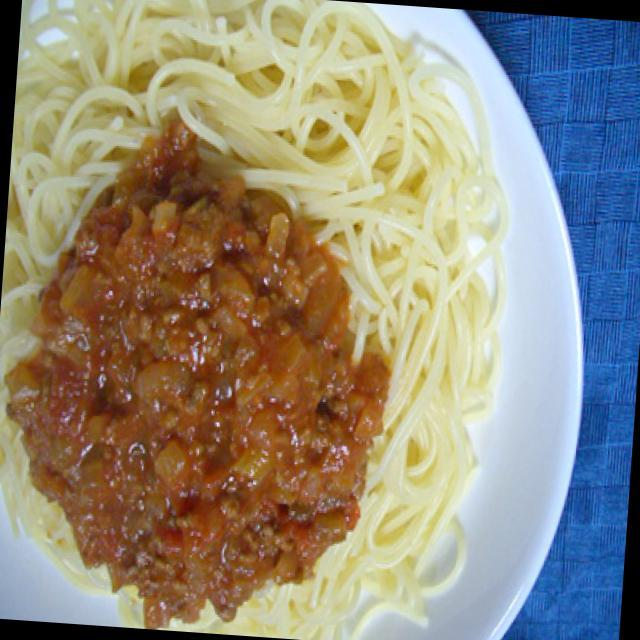Pasta: (0, 0, 531, 640)
